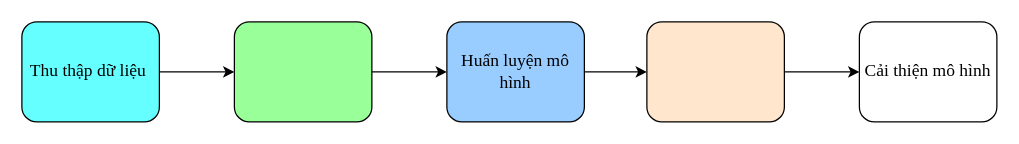
Some shapes in this 1019 by 144 pixel diagram are drawn without their labels. Each missing label, with the centre of its shape:
Tiền xử lý: pixel 302 71
Đánh giá mô hình: pixel 715 71
